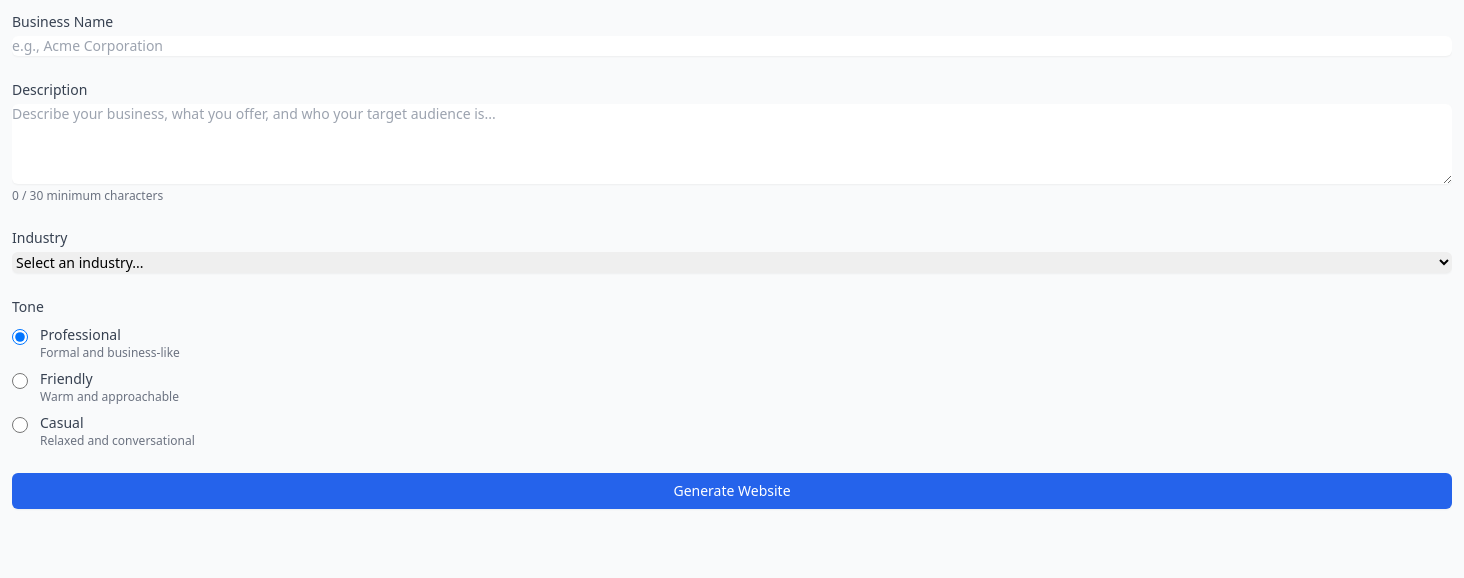
Test: PromptInput › should show validation error when business name is empty
The image size is (1464, 578).
Click the button "Generate Website" at (732, 491), box [12,473,1452,509]
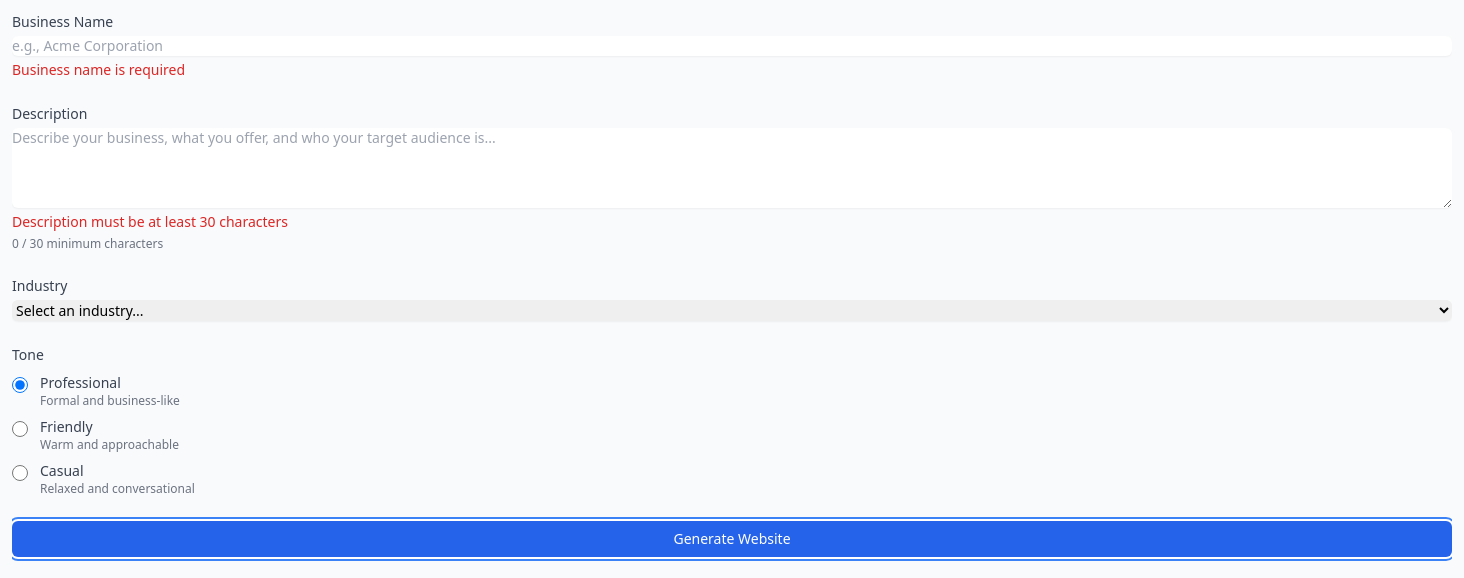
Expected: the text "Business name is required" is shown, [12,60,185,79]
